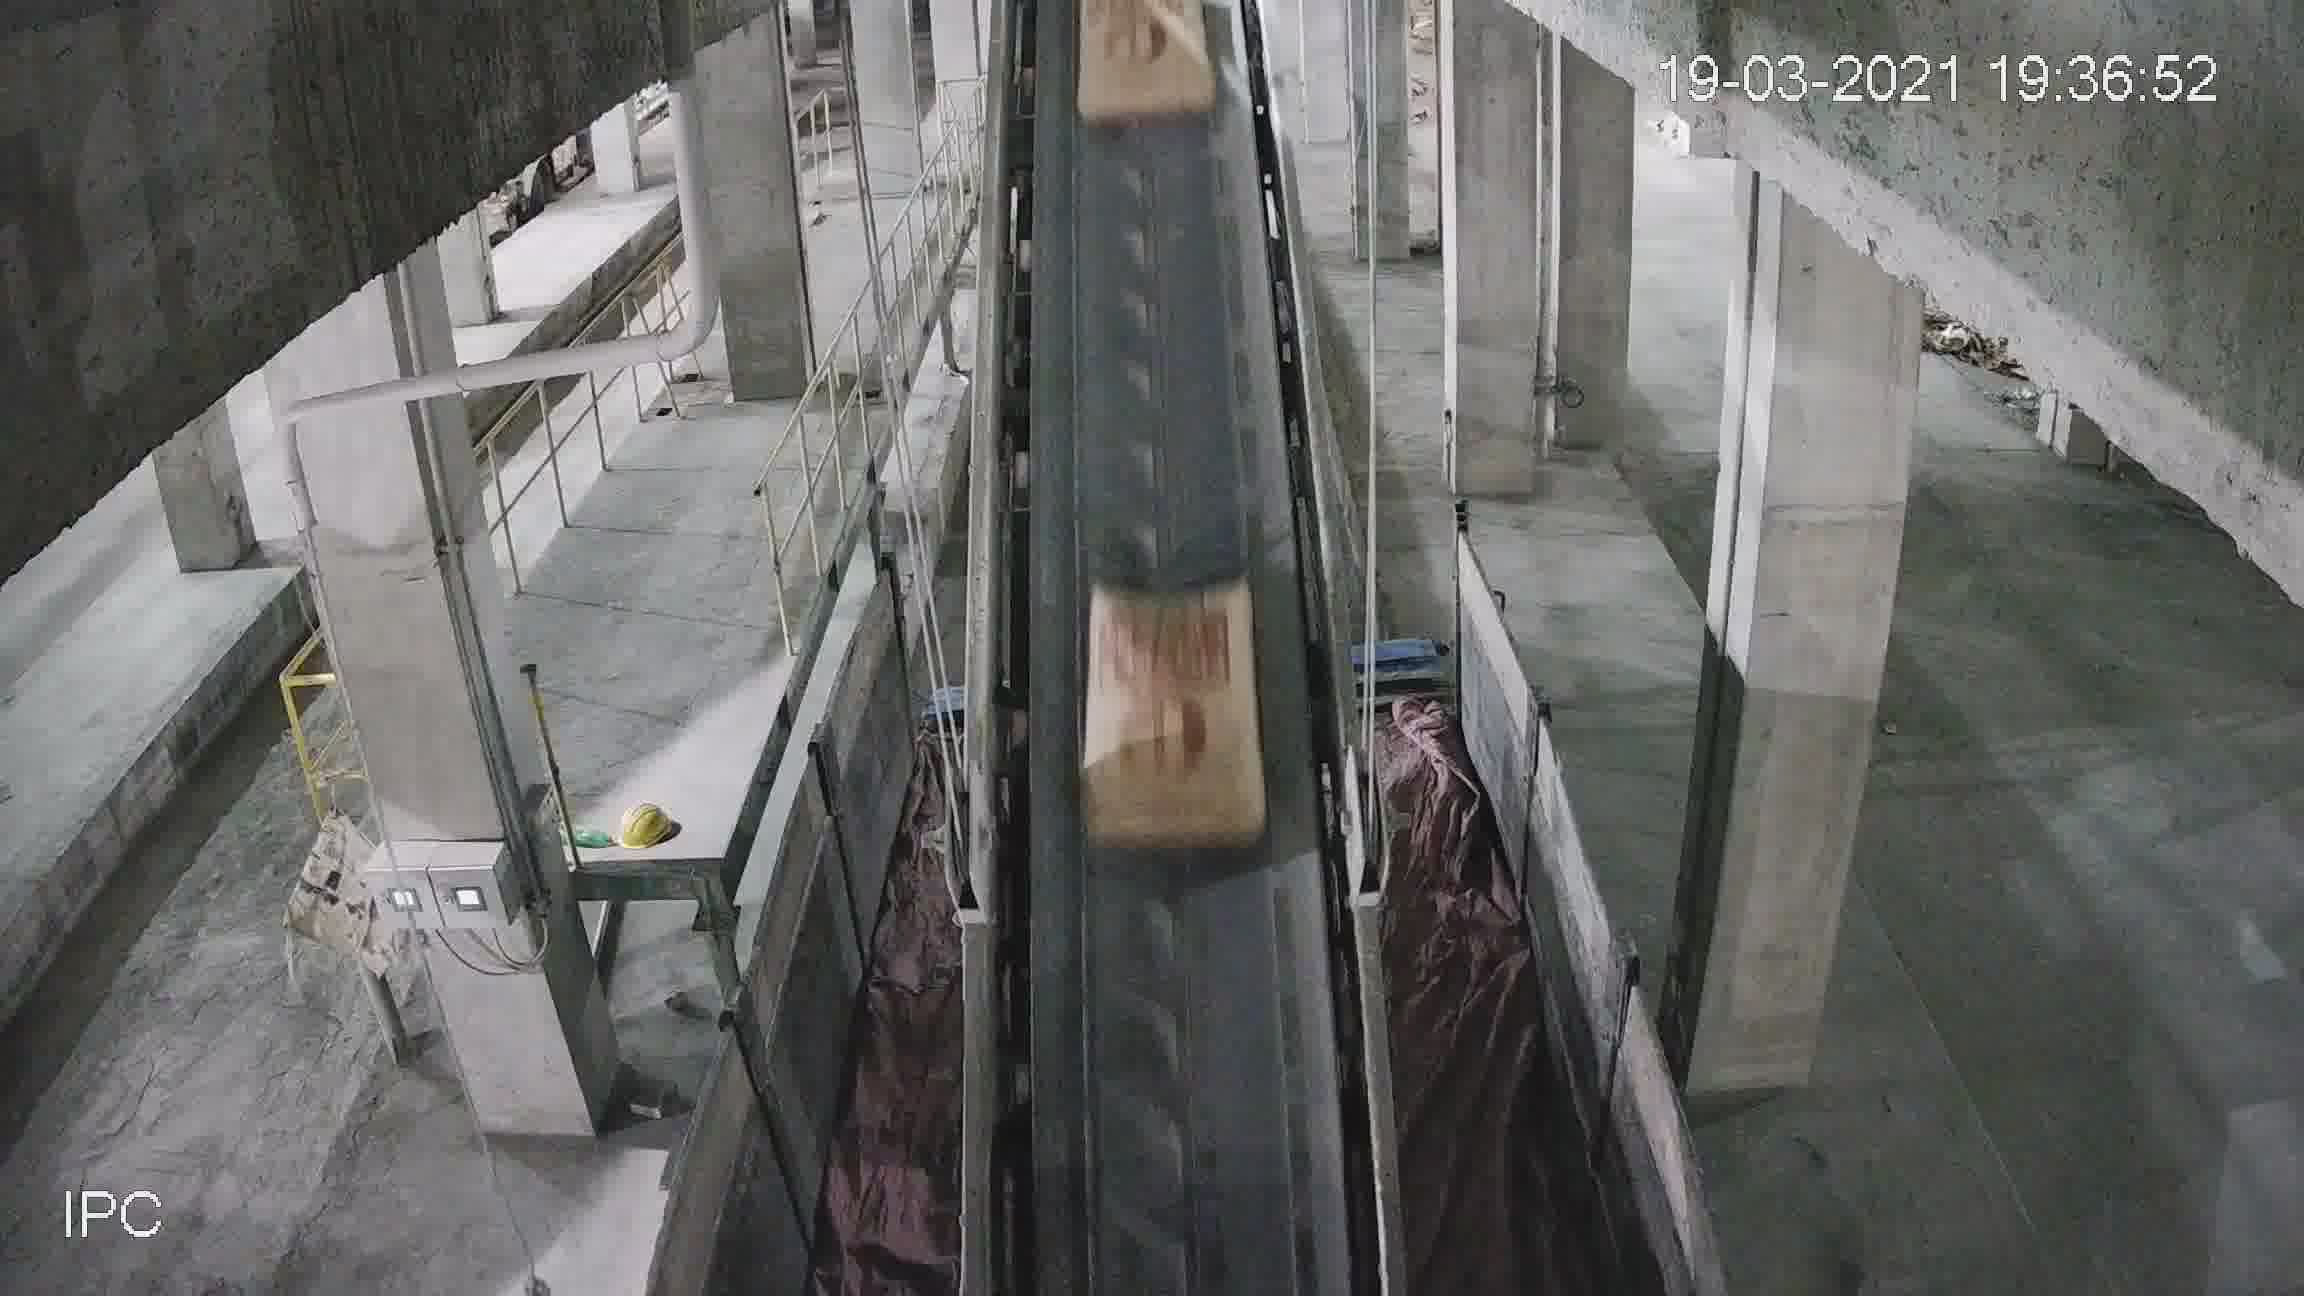bag: (1079, 589, 1249, 847), (1071, 11, 1209, 111)
belt: (961, 32, 1326, 1139)
